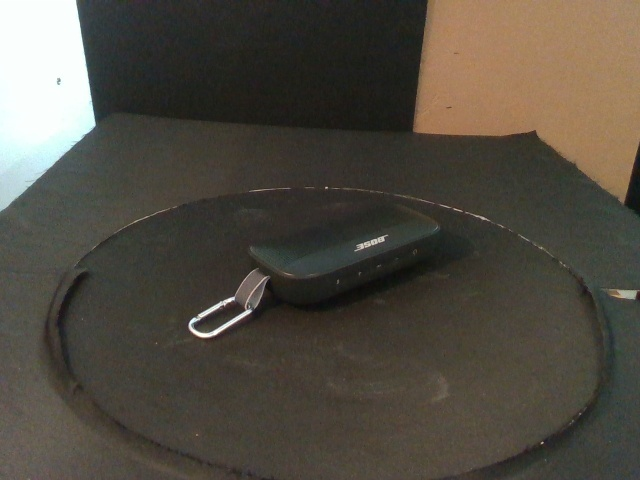speaker: (247, 201, 446, 309)
